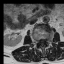CCS_severe_stenosis: (41, 37, 43, 47)
LFS_stenosis: (44, 38, 47, 44)
LLS_severe_stenosis: (43, 38, 44, 44)
RFS_stenosis: (37, 38, 39, 44)
RLS_severe_stenosis: (39, 38, 41, 44)
